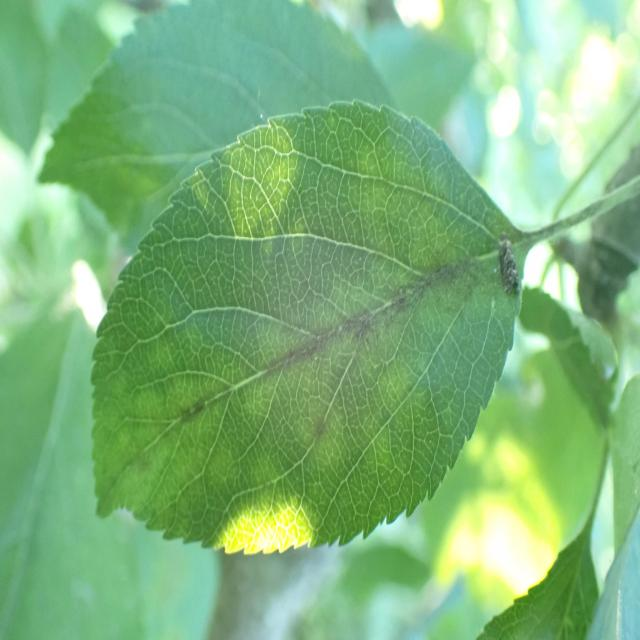scab: (139, 232, 490, 429)
